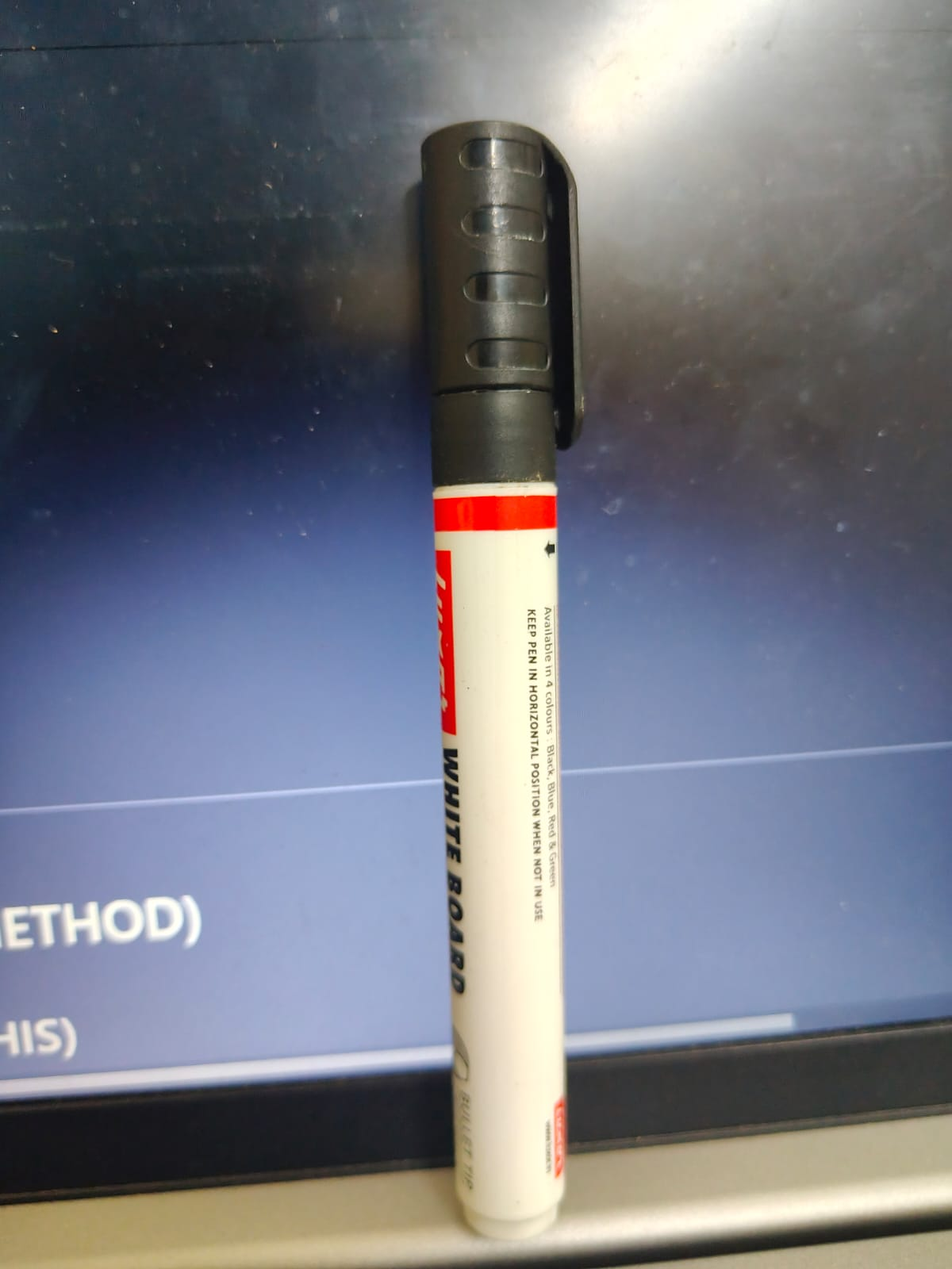case: (391, 99, 633, 1252)
